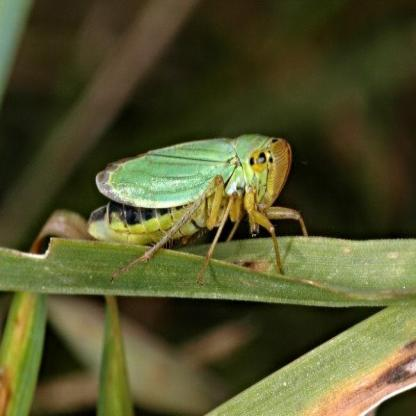Green-Leafhopper: (89, 132, 309, 288)
